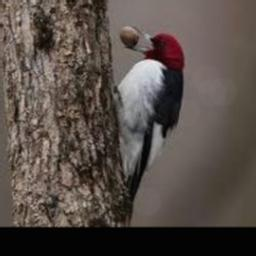Woodpecker: (114, 24, 184, 222)
